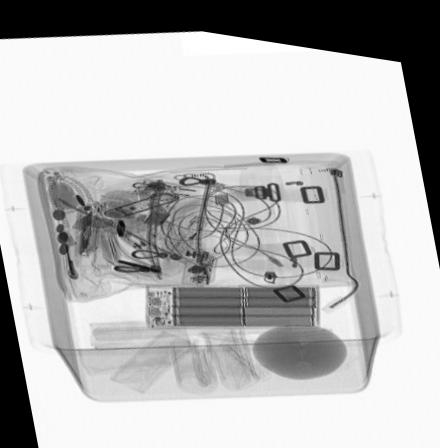Lighter: (156, 209, 218, 249)
